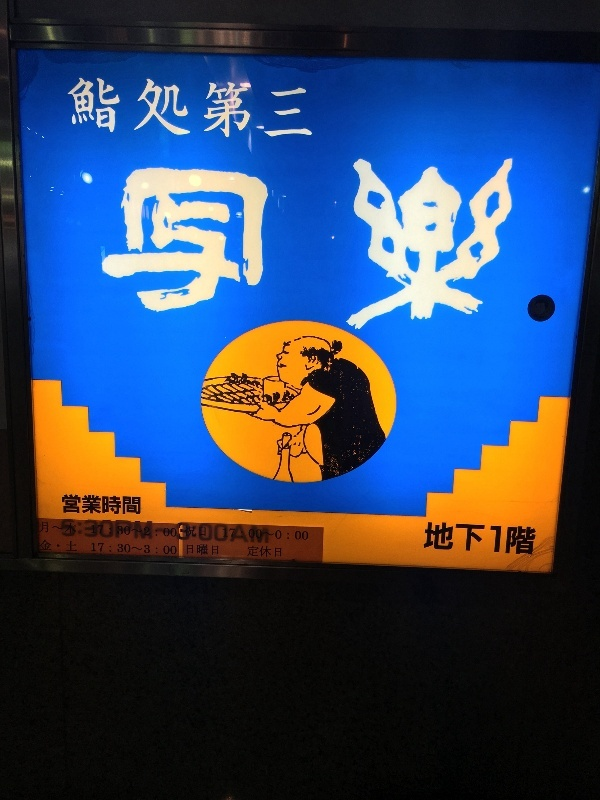text: (113, 153, 128, 339), (129, 153, 144, 339), (145, 153, 160, 339), (161, 153, 176, 339), (177, 153, 192, 339), (193, 153, 208, 339), (209, 153, 224, 339), (225, 153, 240, 339), (241, 153, 256, 339), (257, 153, 272, 339), (273, 153, 288, 339), (289, 153, 304, 339), (305, 153, 320, 339), (321, 153, 336, 339), (337, 153, 352, 339), (353, 153, 368, 339), (369, 153, 384, 339), (385, 153, 400, 339), (401, 153, 416, 339), (417, 153, 432, 339), (433, 153, 448, 339), (449, 153, 464, 339), (465, 153, 480, 339), (481, 153, 496, 339), (497, 153, 512, 339), (102, 153, 112, 339), (513, 153, 522, 339), (81, 71, 96, 147), (97, 71, 112, 147), (113, 71, 128, 147), (129, 71, 144, 147), (145, 71, 160, 147), (161, 71, 176, 147), (177, 71, 192, 147), (193, 71, 208, 147), (209, 71, 224, 147), (225, 71, 240, 147), (241, 71, 256, 147), (257, 71, 272, 147), (273, 71, 288, 147), (289, 71, 304, 147), (70, 71, 80, 147), (305, 71, 314, 147), (433, 522, 448, 561), (449, 522, 464, 561), (465, 522, 480, 561), (481, 522, 496, 561), (497, 522, 512, 561), (513, 522, 528, 561), (529, 522, 538, 561), (65, 493, 80, 515), (81, 493, 96, 515), (97, 493, 112, 515), (113, 493, 128, 515), (161, 524, 177, 542), (129, 493, 142, 515), (97, 524, 112, 542), (113, 524, 128, 542), (129, 524, 144, 542), (145, 524, 160, 542), (49, 521, 64, 538), (49, 539, 64, 555), (257, 544, 272, 560), (426, 522, 432, 561), (97, 542, 112, 557), (113, 542, 128, 557), (129, 542, 144, 557), (145, 542, 160, 557), (161, 542, 176, 557), (225, 527, 240, 542), (241, 527, 256, 542), (257, 527, 272, 542), (273, 527, 288, 542), (289, 527, 304, 542), (193, 525, 207, 539), (65, 539, 76, 555), (65, 521, 75, 538), (193, 545, 208, 556), (273, 544, 283, 560), (248, 544, 256, 560), (209, 545, 220, 556), (41, 521, 48, 538), (41, 539, 48, 555), (185, 525, 192, 539), (91, 524, 96, 542), (91, 542, 96, 557), (305, 527, 310, 542), (61, 493, 64, 515), (186, 545, 192, 556), (177, 542, 178, 557), (223, 527, 224, 542)
